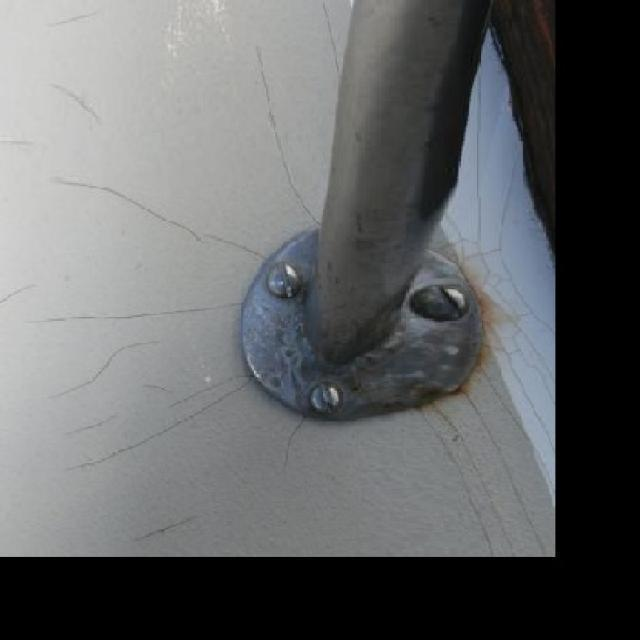crack: (71, 377, 260, 479), (53, 174, 193, 259), (245, 53, 310, 217), (20, 297, 236, 334), (42, 334, 168, 397), (54, 398, 136, 437), (126, 382, 180, 413)
